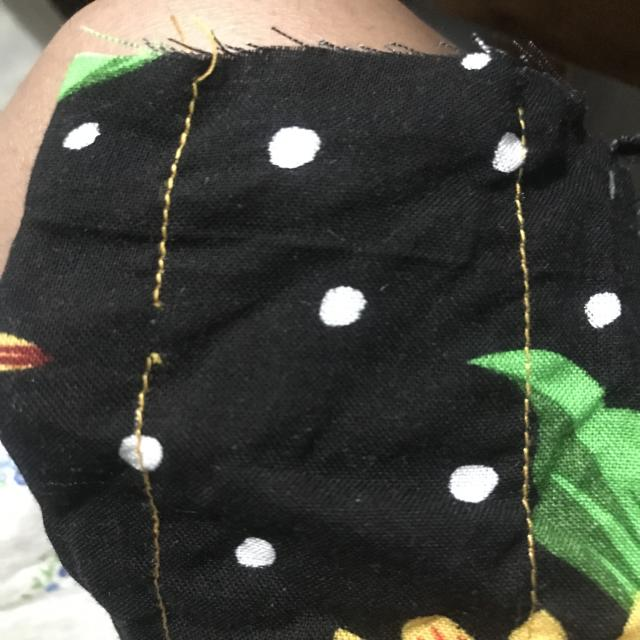broken: (132, 278, 182, 383)
good: (147, 170, 191, 255)
